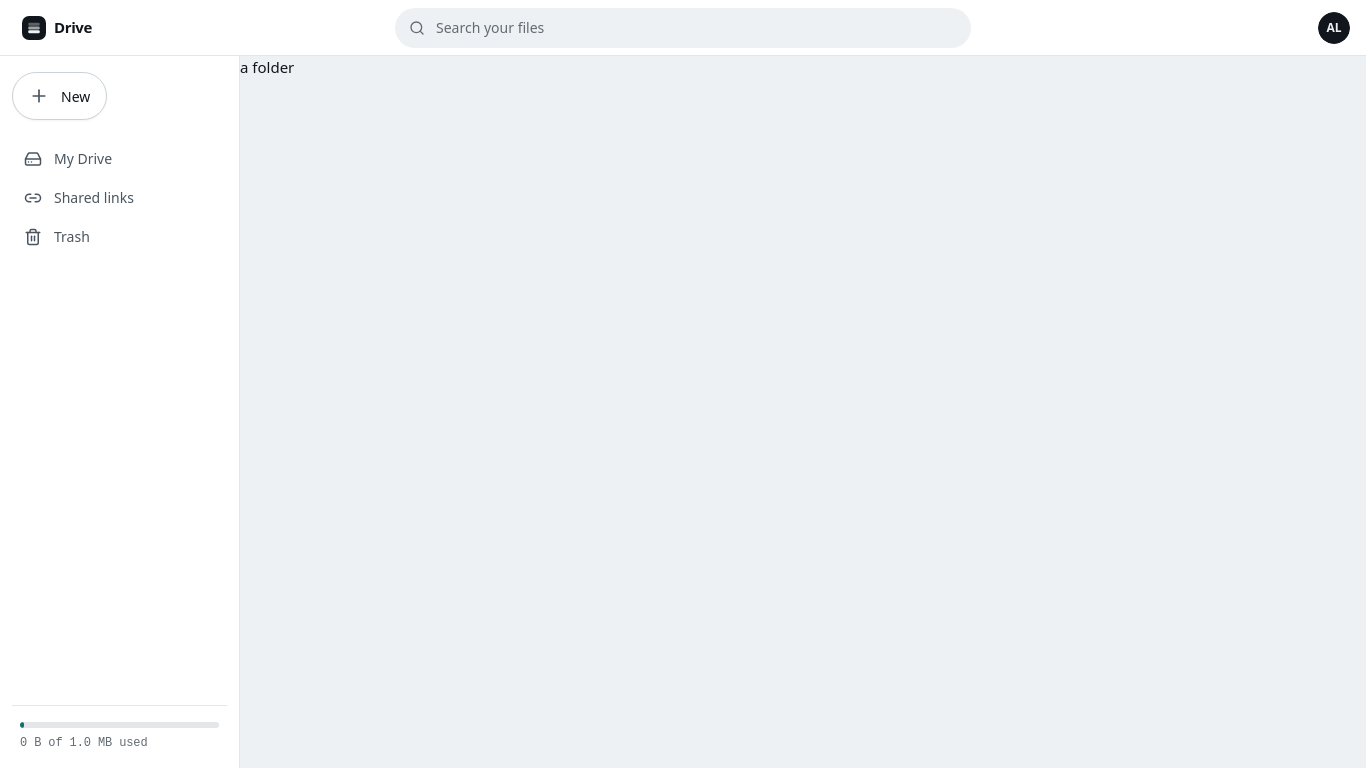
it: the New menu and the upload seam › keeps New in the rail on the way into the trash, renamed rather than removed
Check: the button "New" is shown, box [12,72,107,120]
Click the link "Trash".
click(57, 236)  # box [24,227,90,246]
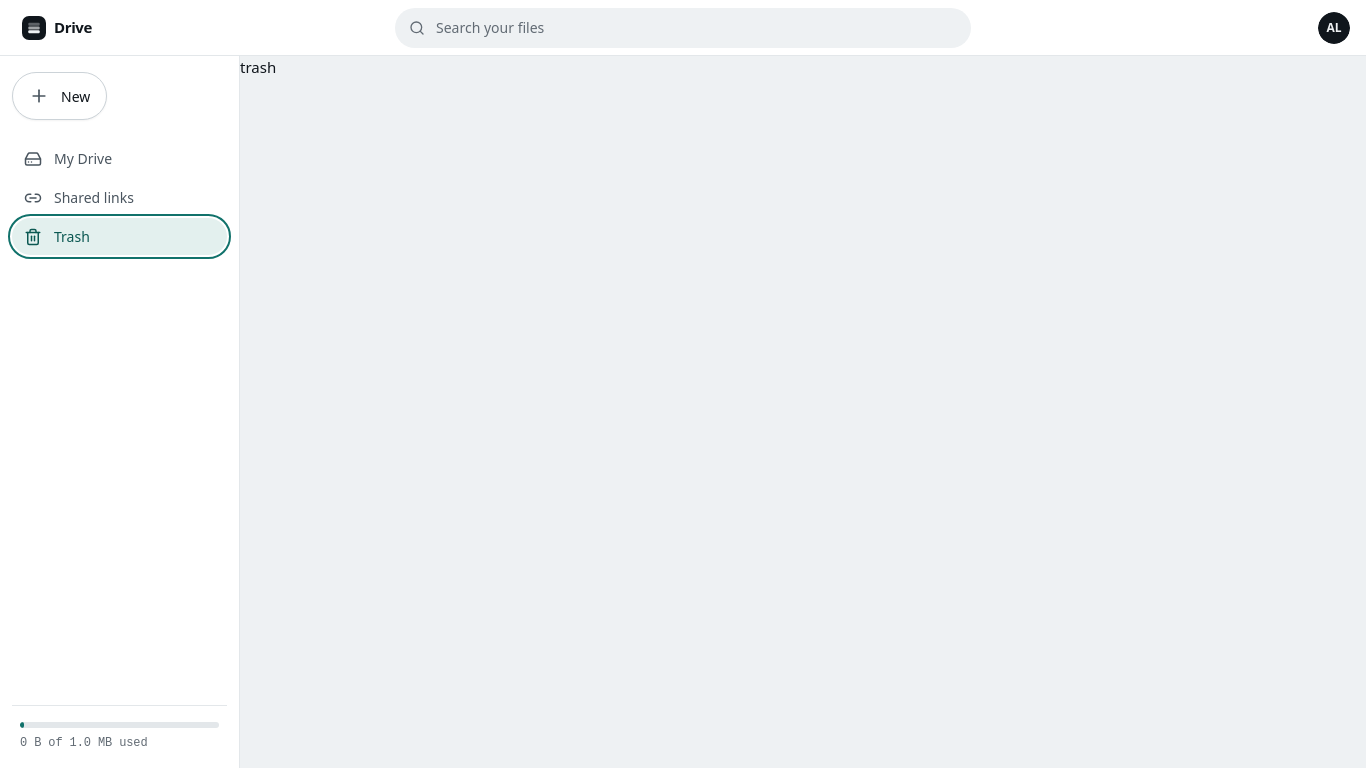
Check: the text "trash" is shown, box [240,57,276,77]
Click the button "New".
click(60, 96)  # box [12,72,107,120]
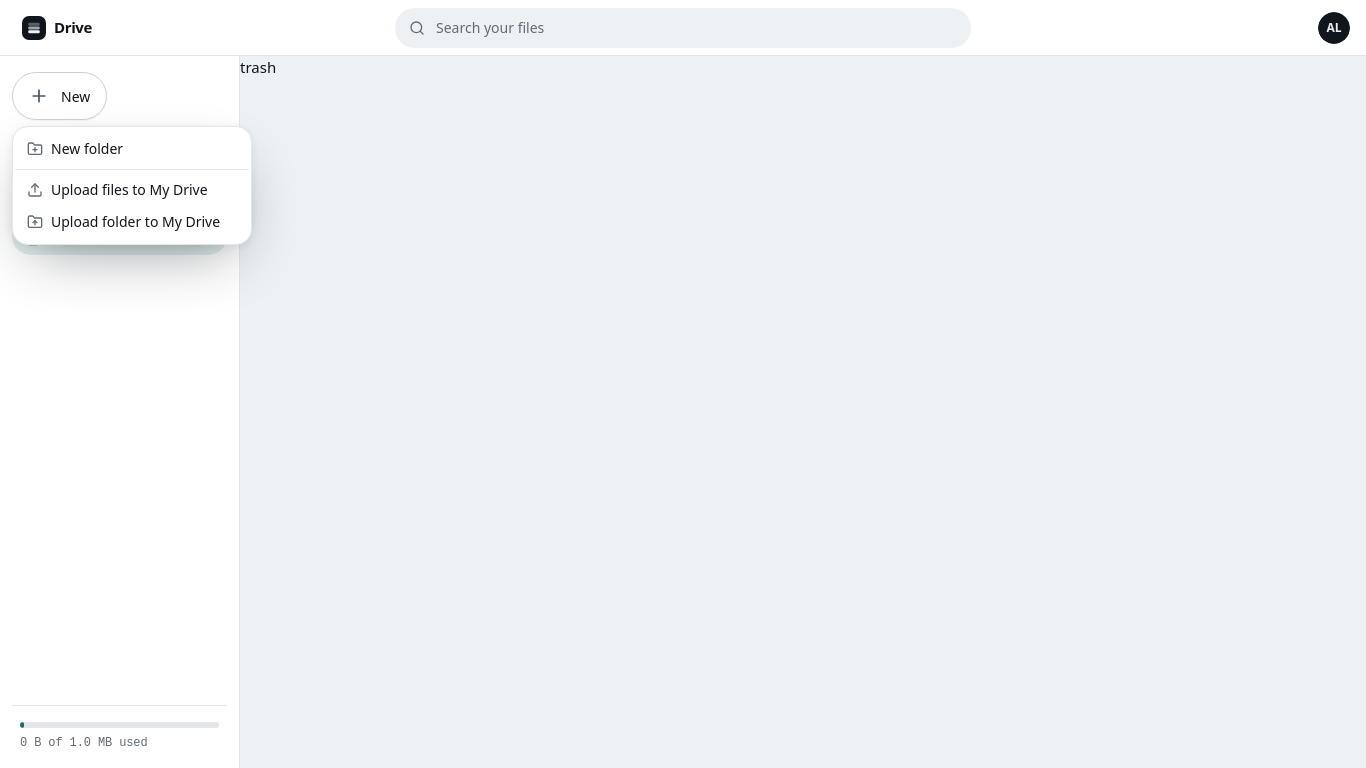
Check: the menu item "Upload files to My Drive" is shown, box [27,180,208,199]
